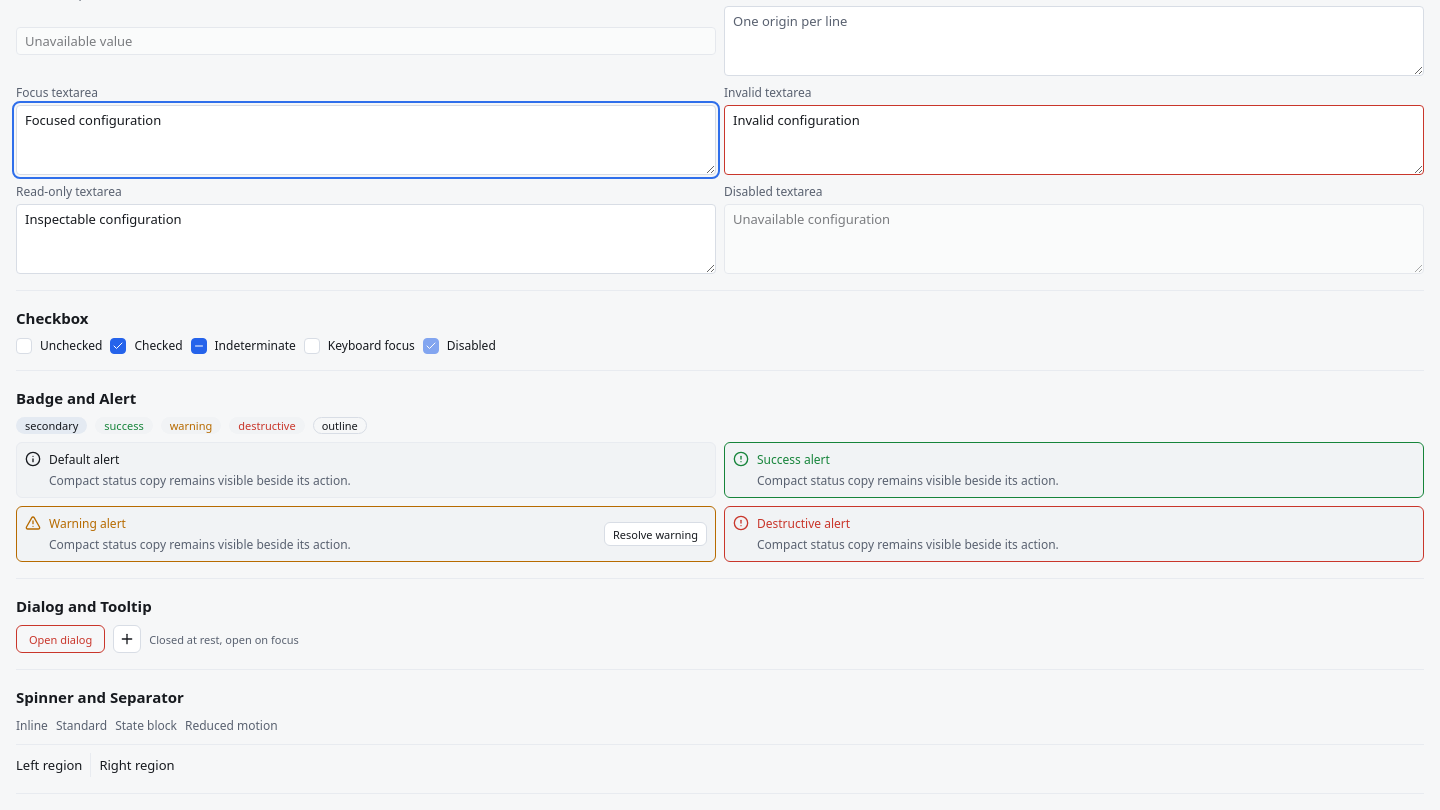
Test: owned UI primitive behavior › Given Dialog is opened When Escape is pressed Then it closes without a custom close control
The image size is (1440, 810).
Click the button "Open dialog": (61, 639) [16,625,105,653]
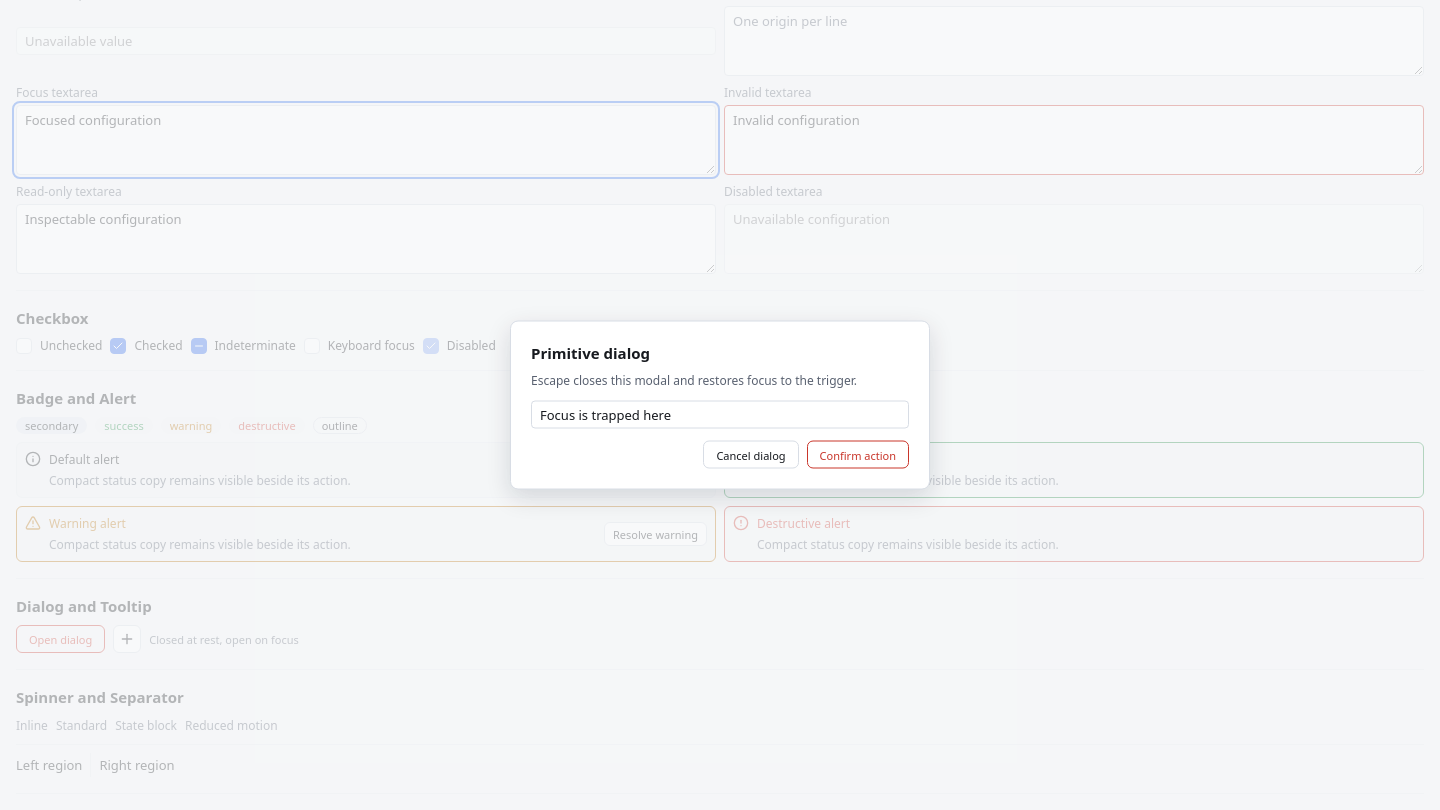
Press Escape
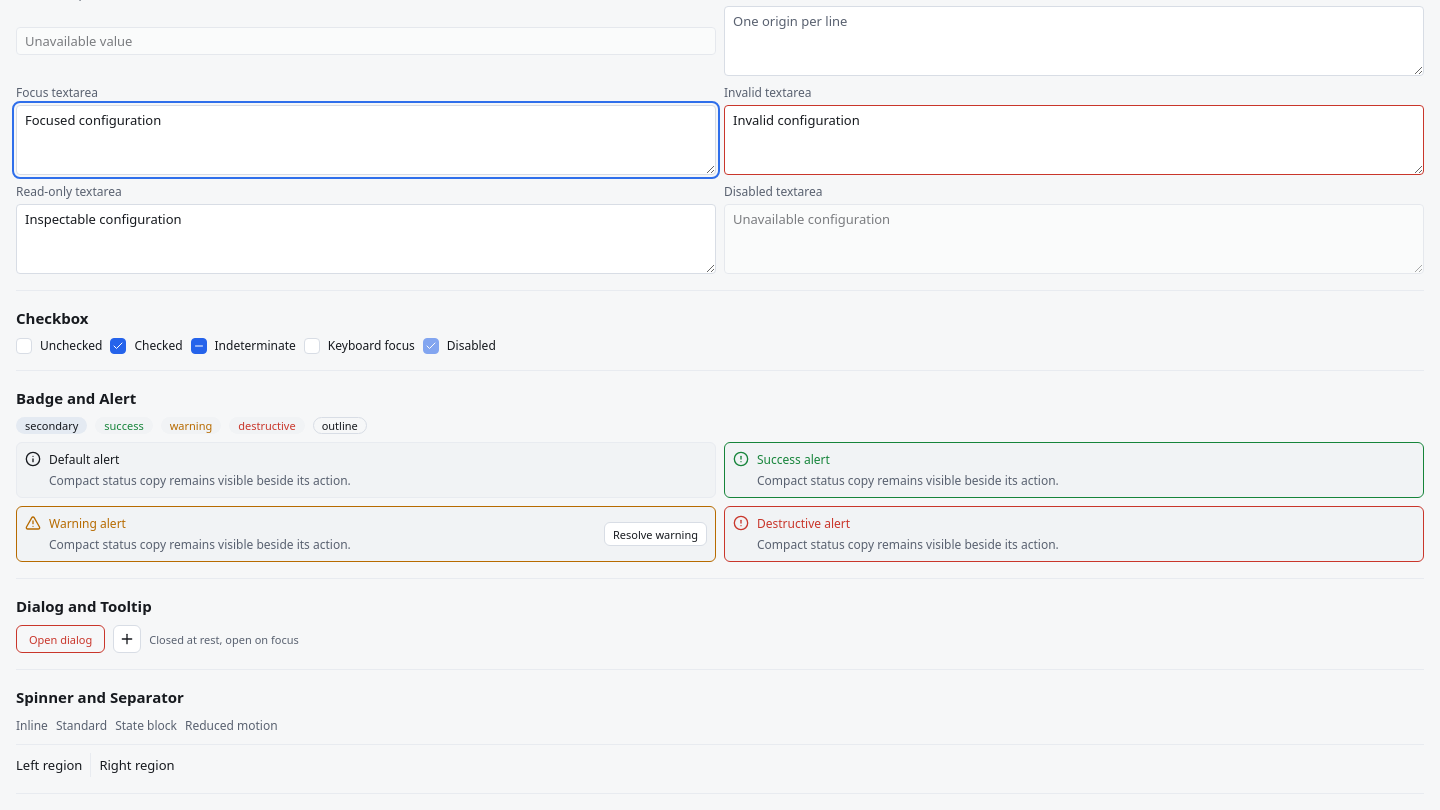
Result: the heading "Primitive dialog" is gone
